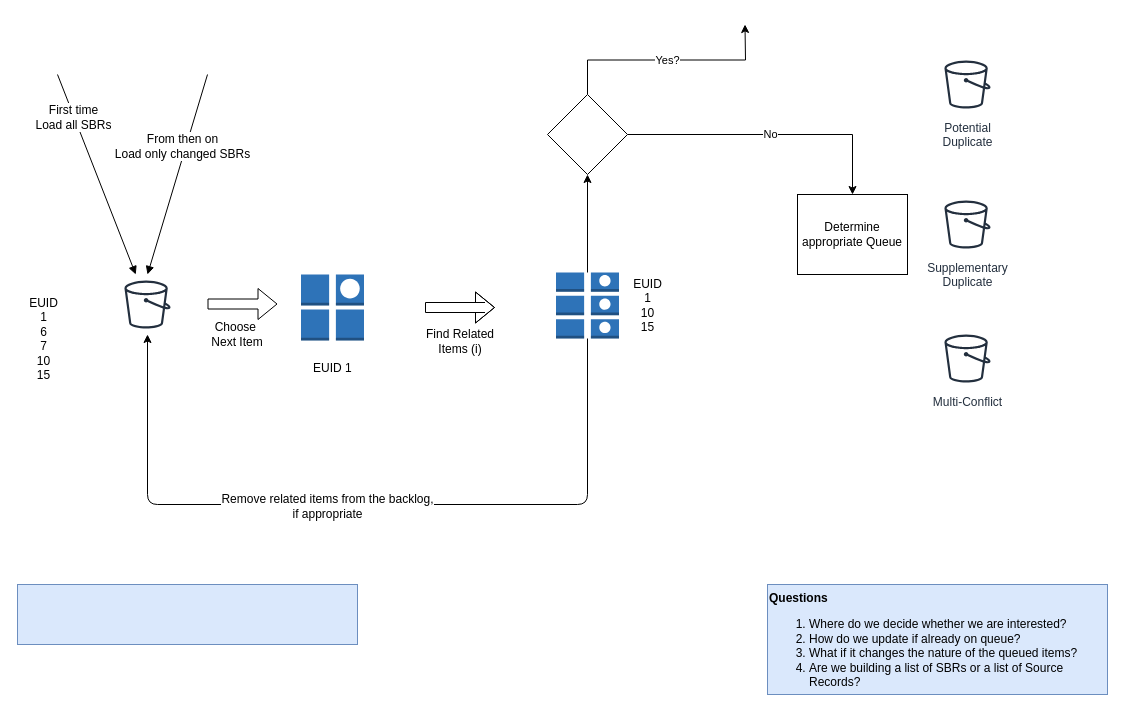
The diagram is 1125 pixels wide and 719 high, and some of its shapes have lost their labels. Each missing label, with the centre of its shape:
Already in a Queue?: the point at 587,134
Backlog: the point at 147,304
Notes (i) See separate diagram: the point at 187,614
